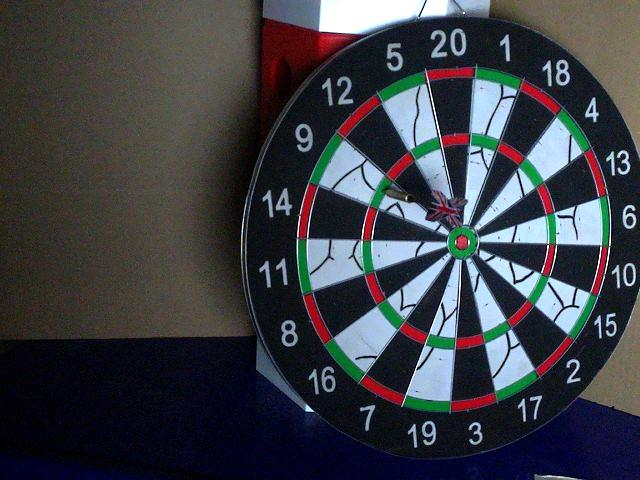triple_9: (372, 179, 392, 209)
